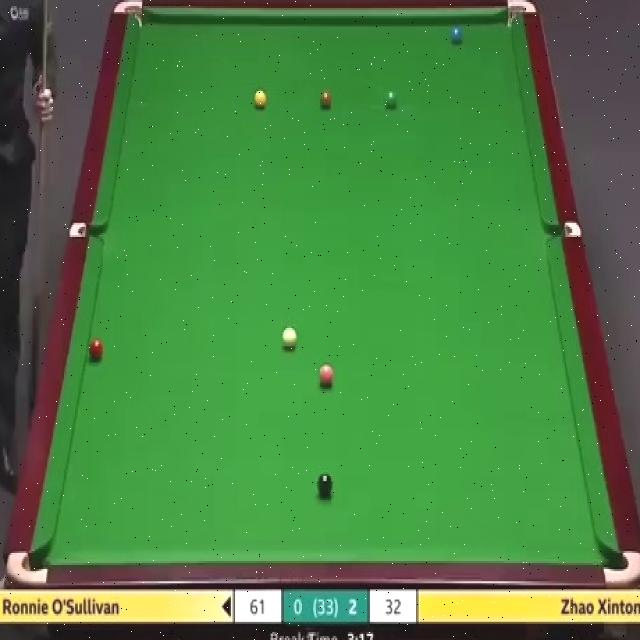black-ball: (318, 471, 332, 497)
blue-ball: (449, 25, 464, 45)
brown-ball: (319, 91, 332, 108)
green-ball: (384, 87, 399, 111)
pink-ball: (318, 361, 335, 393)
red-ball: (89, 337, 104, 361)
white-ball: (280, 324, 298, 351)
yellow-ball: (253, 88, 267, 109)
